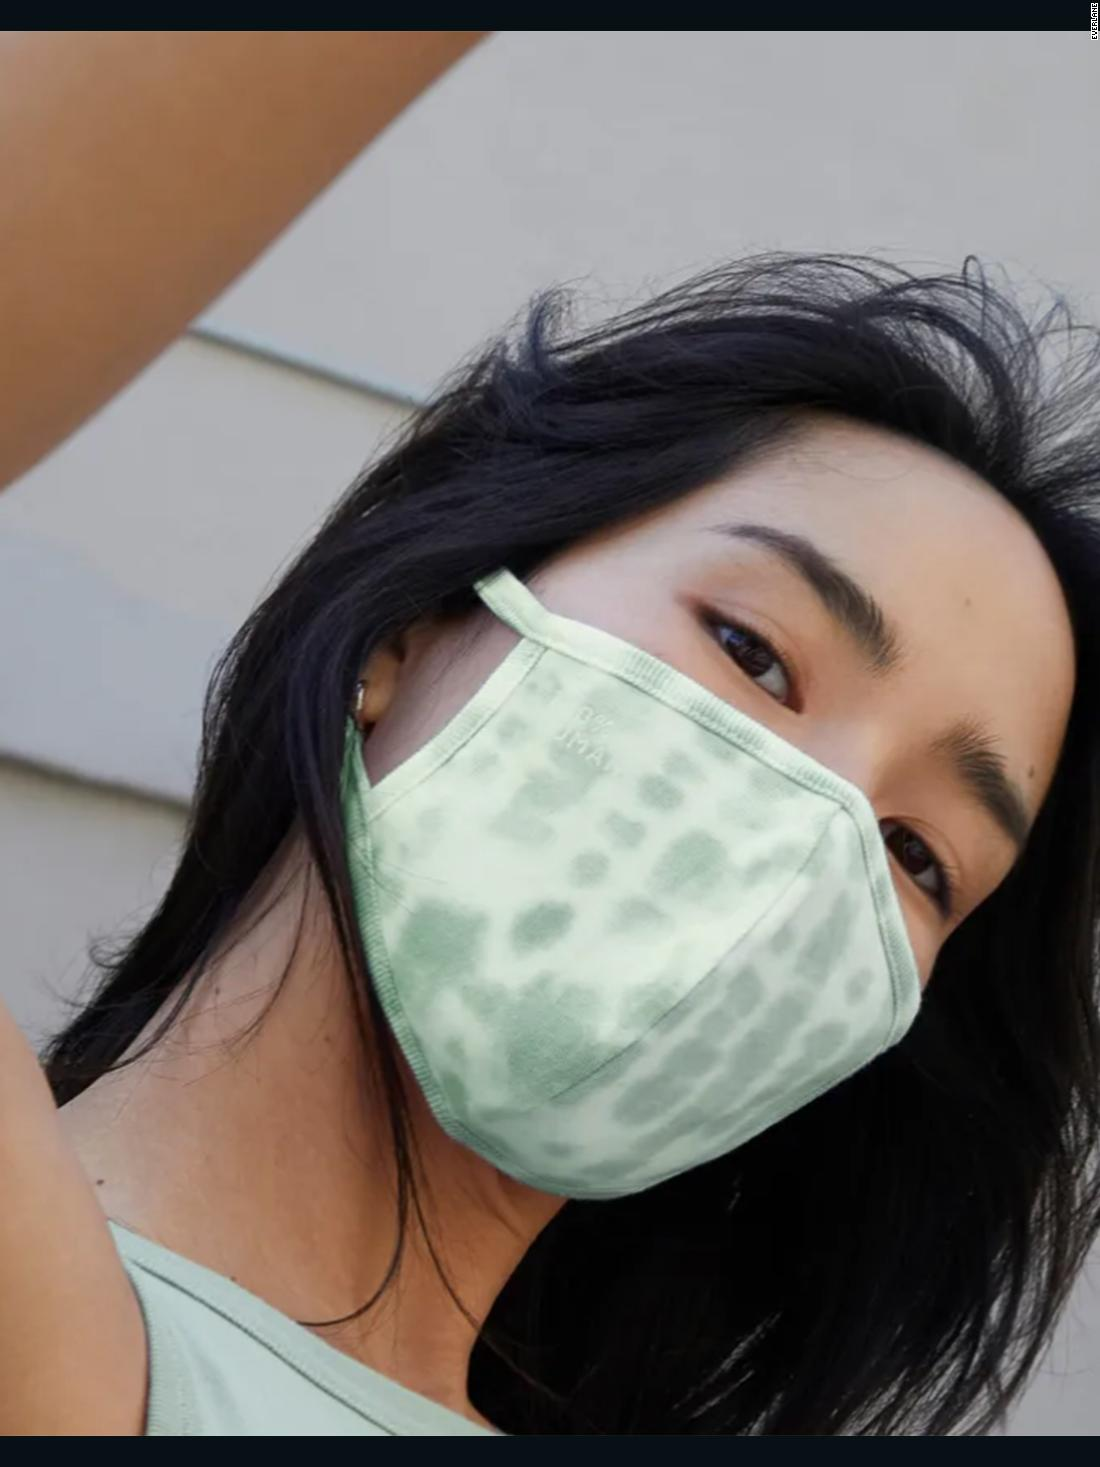mask: (306, 282, 1089, 1218)
